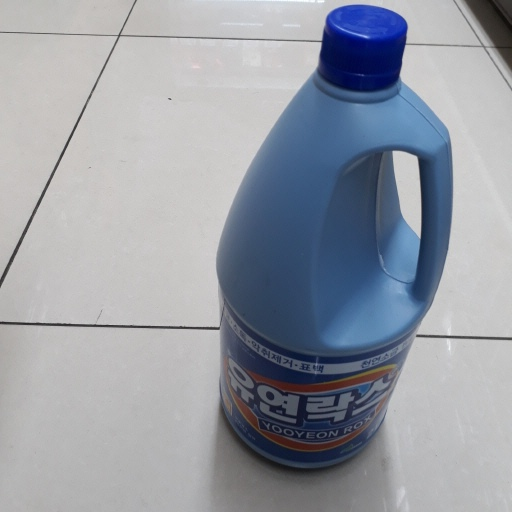Plastic_1: (216, 4, 453, 473)
